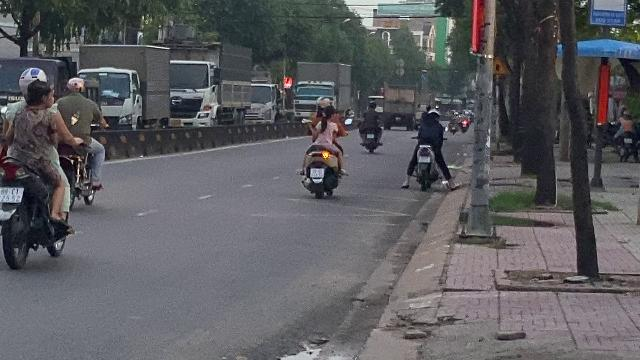helmet: (18, 66, 50, 92), (66, 76, 85, 94)
licenseplate: (0, 186, 22, 202)
motorcyclist: (0, 66, 76, 270), (52, 75, 108, 209)
nohelmet: (22, 80, 56, 118)
